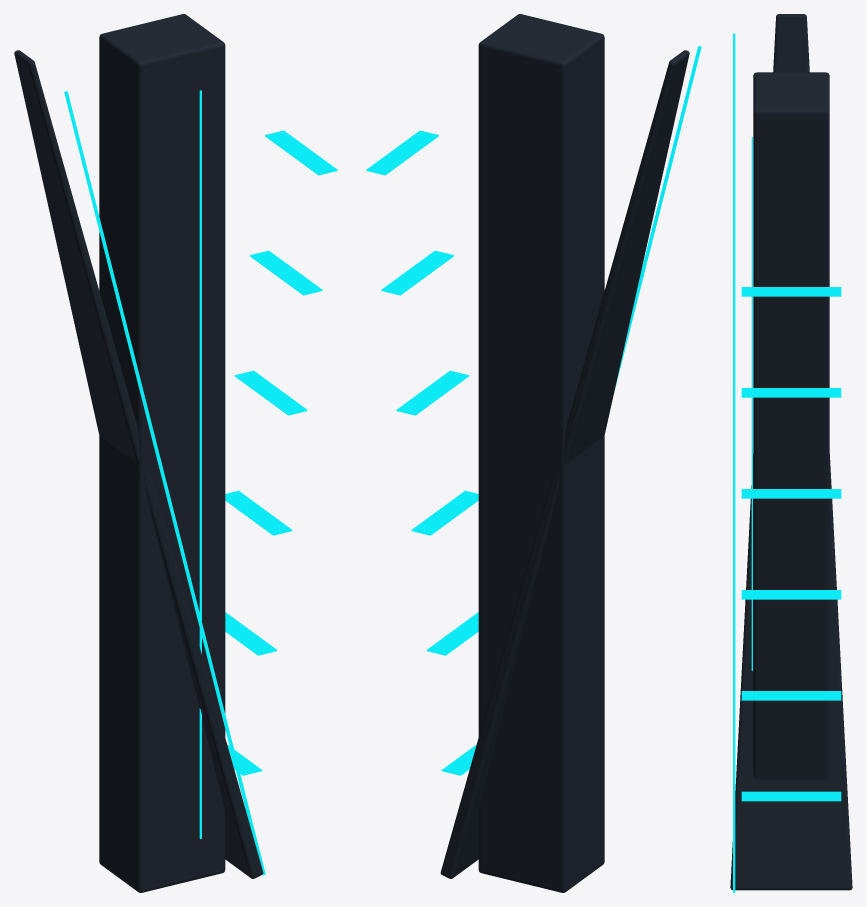
Rendered from Wing.glb.
3 renders of one model, left to right at view 1: azimuth 30°, elevation 25°; view 2: azimuth 150°, elevation 25°; view 3: azimuth 270°, elevation 25°, orthographic. The views are drawn at different scales.
Parts seen in each view (by area): view 1: Wing_Body, Wing_Sail, Wing_SailEdge, Wing_Spine, Wing_Rib3, Wing_Rib4, Wing_Rib5, Wing_Rib2, Wing_Rib1; view 2: Wing_Body, Wing_Sail, Wing_SailEdge, Wing_Rib3, Wing_Rib4, Wing_Rib5, Wing_Rib2, Wing_Rib1; view 3: Wing_Body, Wing_Sail, Wing_SailEdge, Wing_Rib0, Wing_Rib1, Wing_Rib2, Wing_Rib3, Wing_Rib4, Wing_Rib5, Wing_Spine.
Boxes of the visible parts, x1,y1,x2,y2 form: Wing_Body: (99, 14, 225, 892); Wing_Sail: (14, 50, 263, 878); Wing_SailEdge: (64, 91, 265, 875); Wing_Spine: (199, 90, 201, 838); Wing_Rib3: (234, 370, 307, 415); Wing_Rib4: (250, 250, 322, 295); Wing_Rib5: (265, 130, 337, 175); Wing_Rib2: (225, 490, 292, 535); Wing_Rib1: (225, 612, 277, 655); Wing_Body: (478, 14, 604, 892); Wing_Sail: (440, 50, 689, 878); Wing_SailEdge: (614, 45, 701, 391); Wing_Rib3: (396, 370, 469, 415); Wing_Rib4: (381, 250, 453, 295); Wing_Rib5: (366, 130, 438, 175); Wing_Rib2: (411, 490, 478, 535); Wing_Rib1: (426, 612, 478, 655); Wing_Body: (753, 72, 829, 779); Wing_Sail: (730, 14, 852, 890); Wing_SailEdge: (733, 33, 735, 892); Wing_Rib0: (741, 791, 841, 801); Wing_Rib1: (741, 691, 841, 700); Wing_Rib2: (741, 590, 841, 599); Wing_Rib3: (741, 489, 841, 498); Wing_Rib4: (741, 388, 841, 397); Wing_Rib5: (741, 287, 841, 296); Wing_Spine: (751, 137, 752, 670).
Bounding box in the file's own units: 36.42 × 102 × 14.37.
